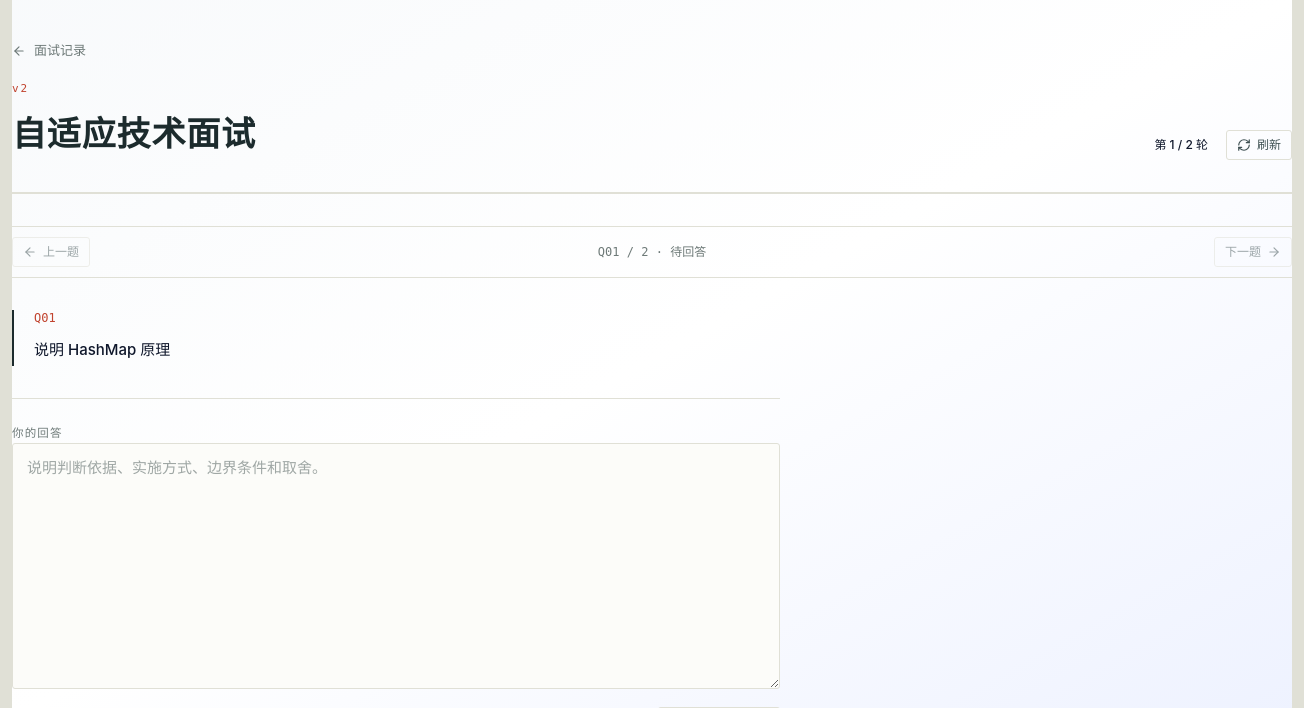
Test: 断流时后台已推进到下一题，恢复后直接显示新题
In the text box: [396, 566] box x1=12 y1=443 x2=780 y2=689, type "原始回答"
(page scrolled)
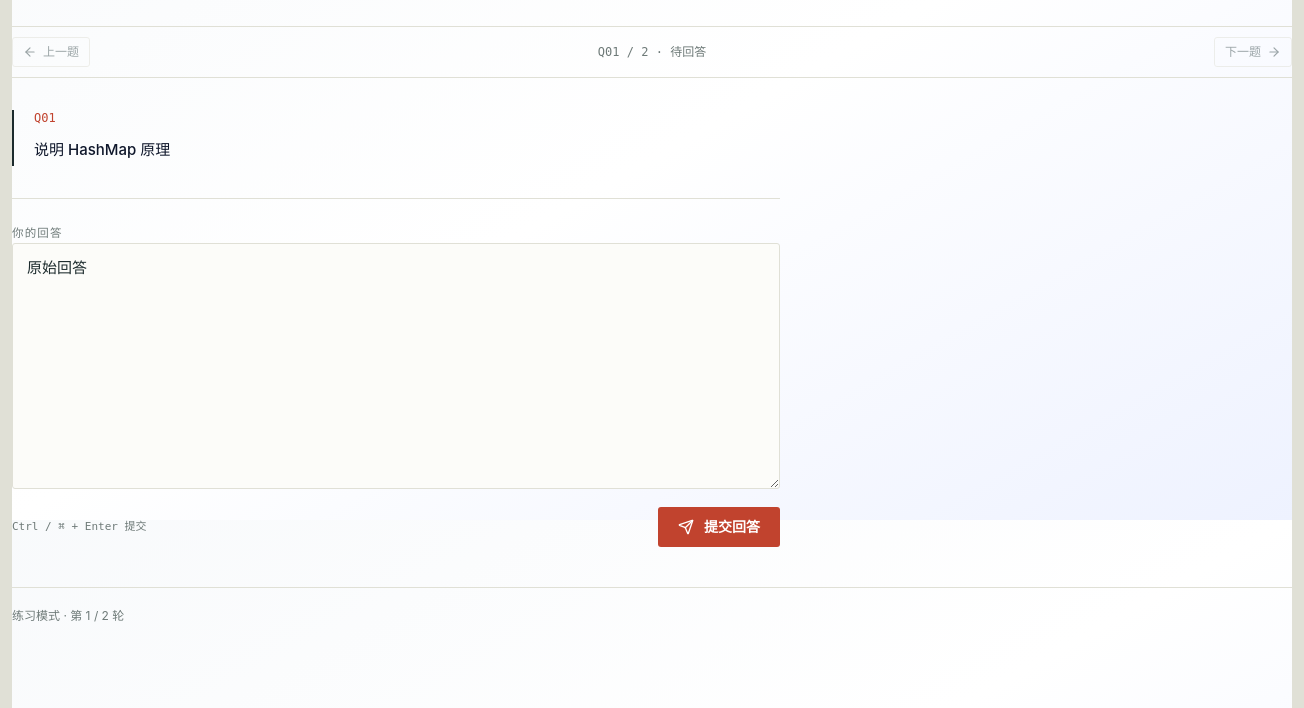
Click the button "提交回答": [719, 527] box x1=658 y1=507 x2=780 y2=547
(page scrolled)
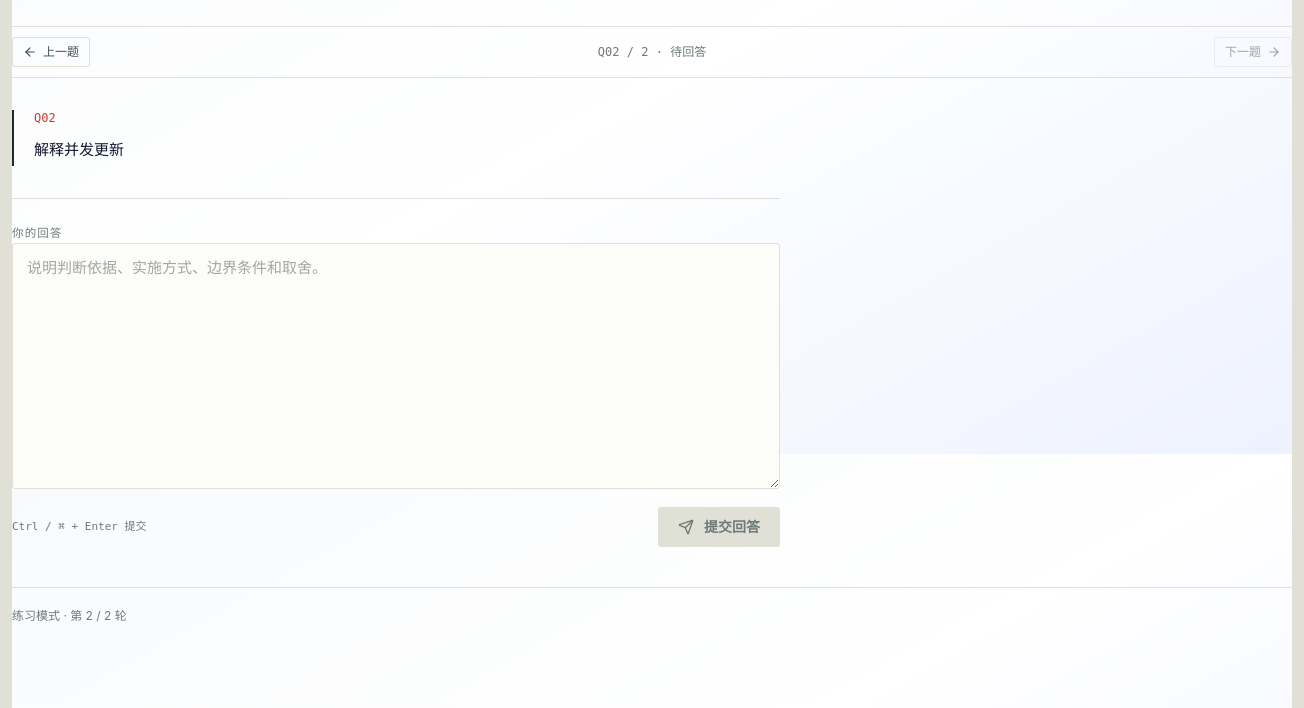
Now the text "解释并发更新" is shown, box x1=34 y1=140 x2=124 y2=159
Now the text box is empty, box x1=12 y1=243 x2=780 y2=489
